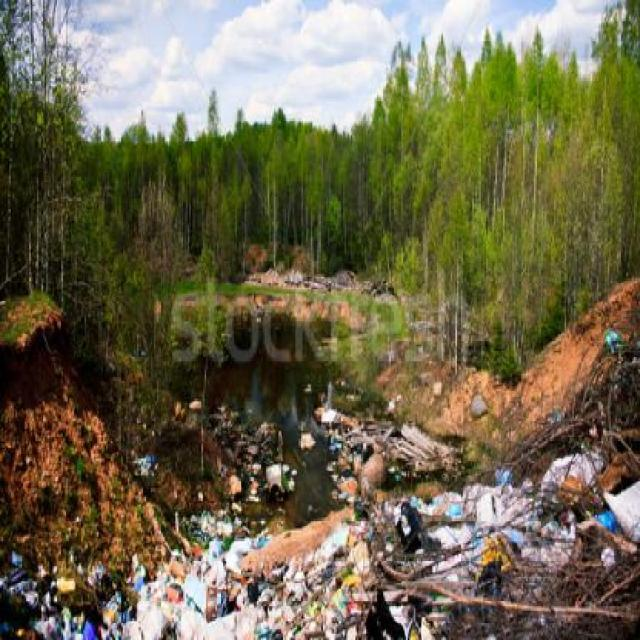garbage: (151, 518, 320, 630), (389, 486, 540, 579), (8, 551, 115, 638)
